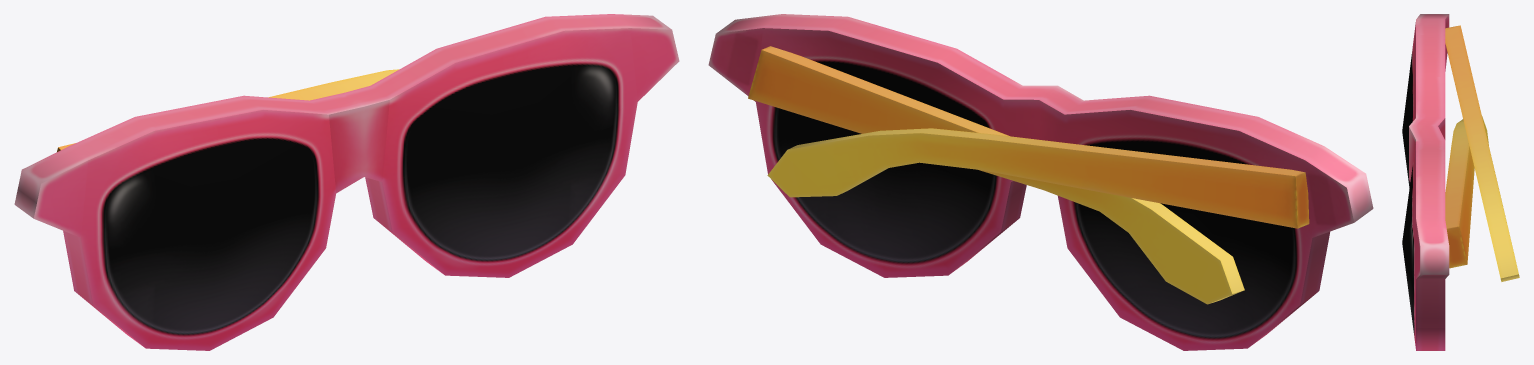
The model's file is SE_Sunglasses_02.fbx.
The picture shows the model from 3 angles, left to right: view 1: azimuth 30°, elevation 25°; view 2: azimuth 150°, elevation 25°; view 3: azimuth 270°, elevation 25°; orthographic projection. The views are drawn at different scales.
Parts seen in each view (by area): view 1: SE_Sunglasses_02; view 2: SE_Sunglasses_02; view 3: SE_Sunglasses_02.
Boxes of the visible parts, <box> form: SE_Sunglasses_02: <box>14,14,679,350</box>; SE_Sunglasses_02: <box>708,14,1373,350</box>; SE_Sunglasses_02: <box>1402,14,1519,350</box>.
Bounding box in the file's own units: 1.59 × 0.549 × 0.3315.
